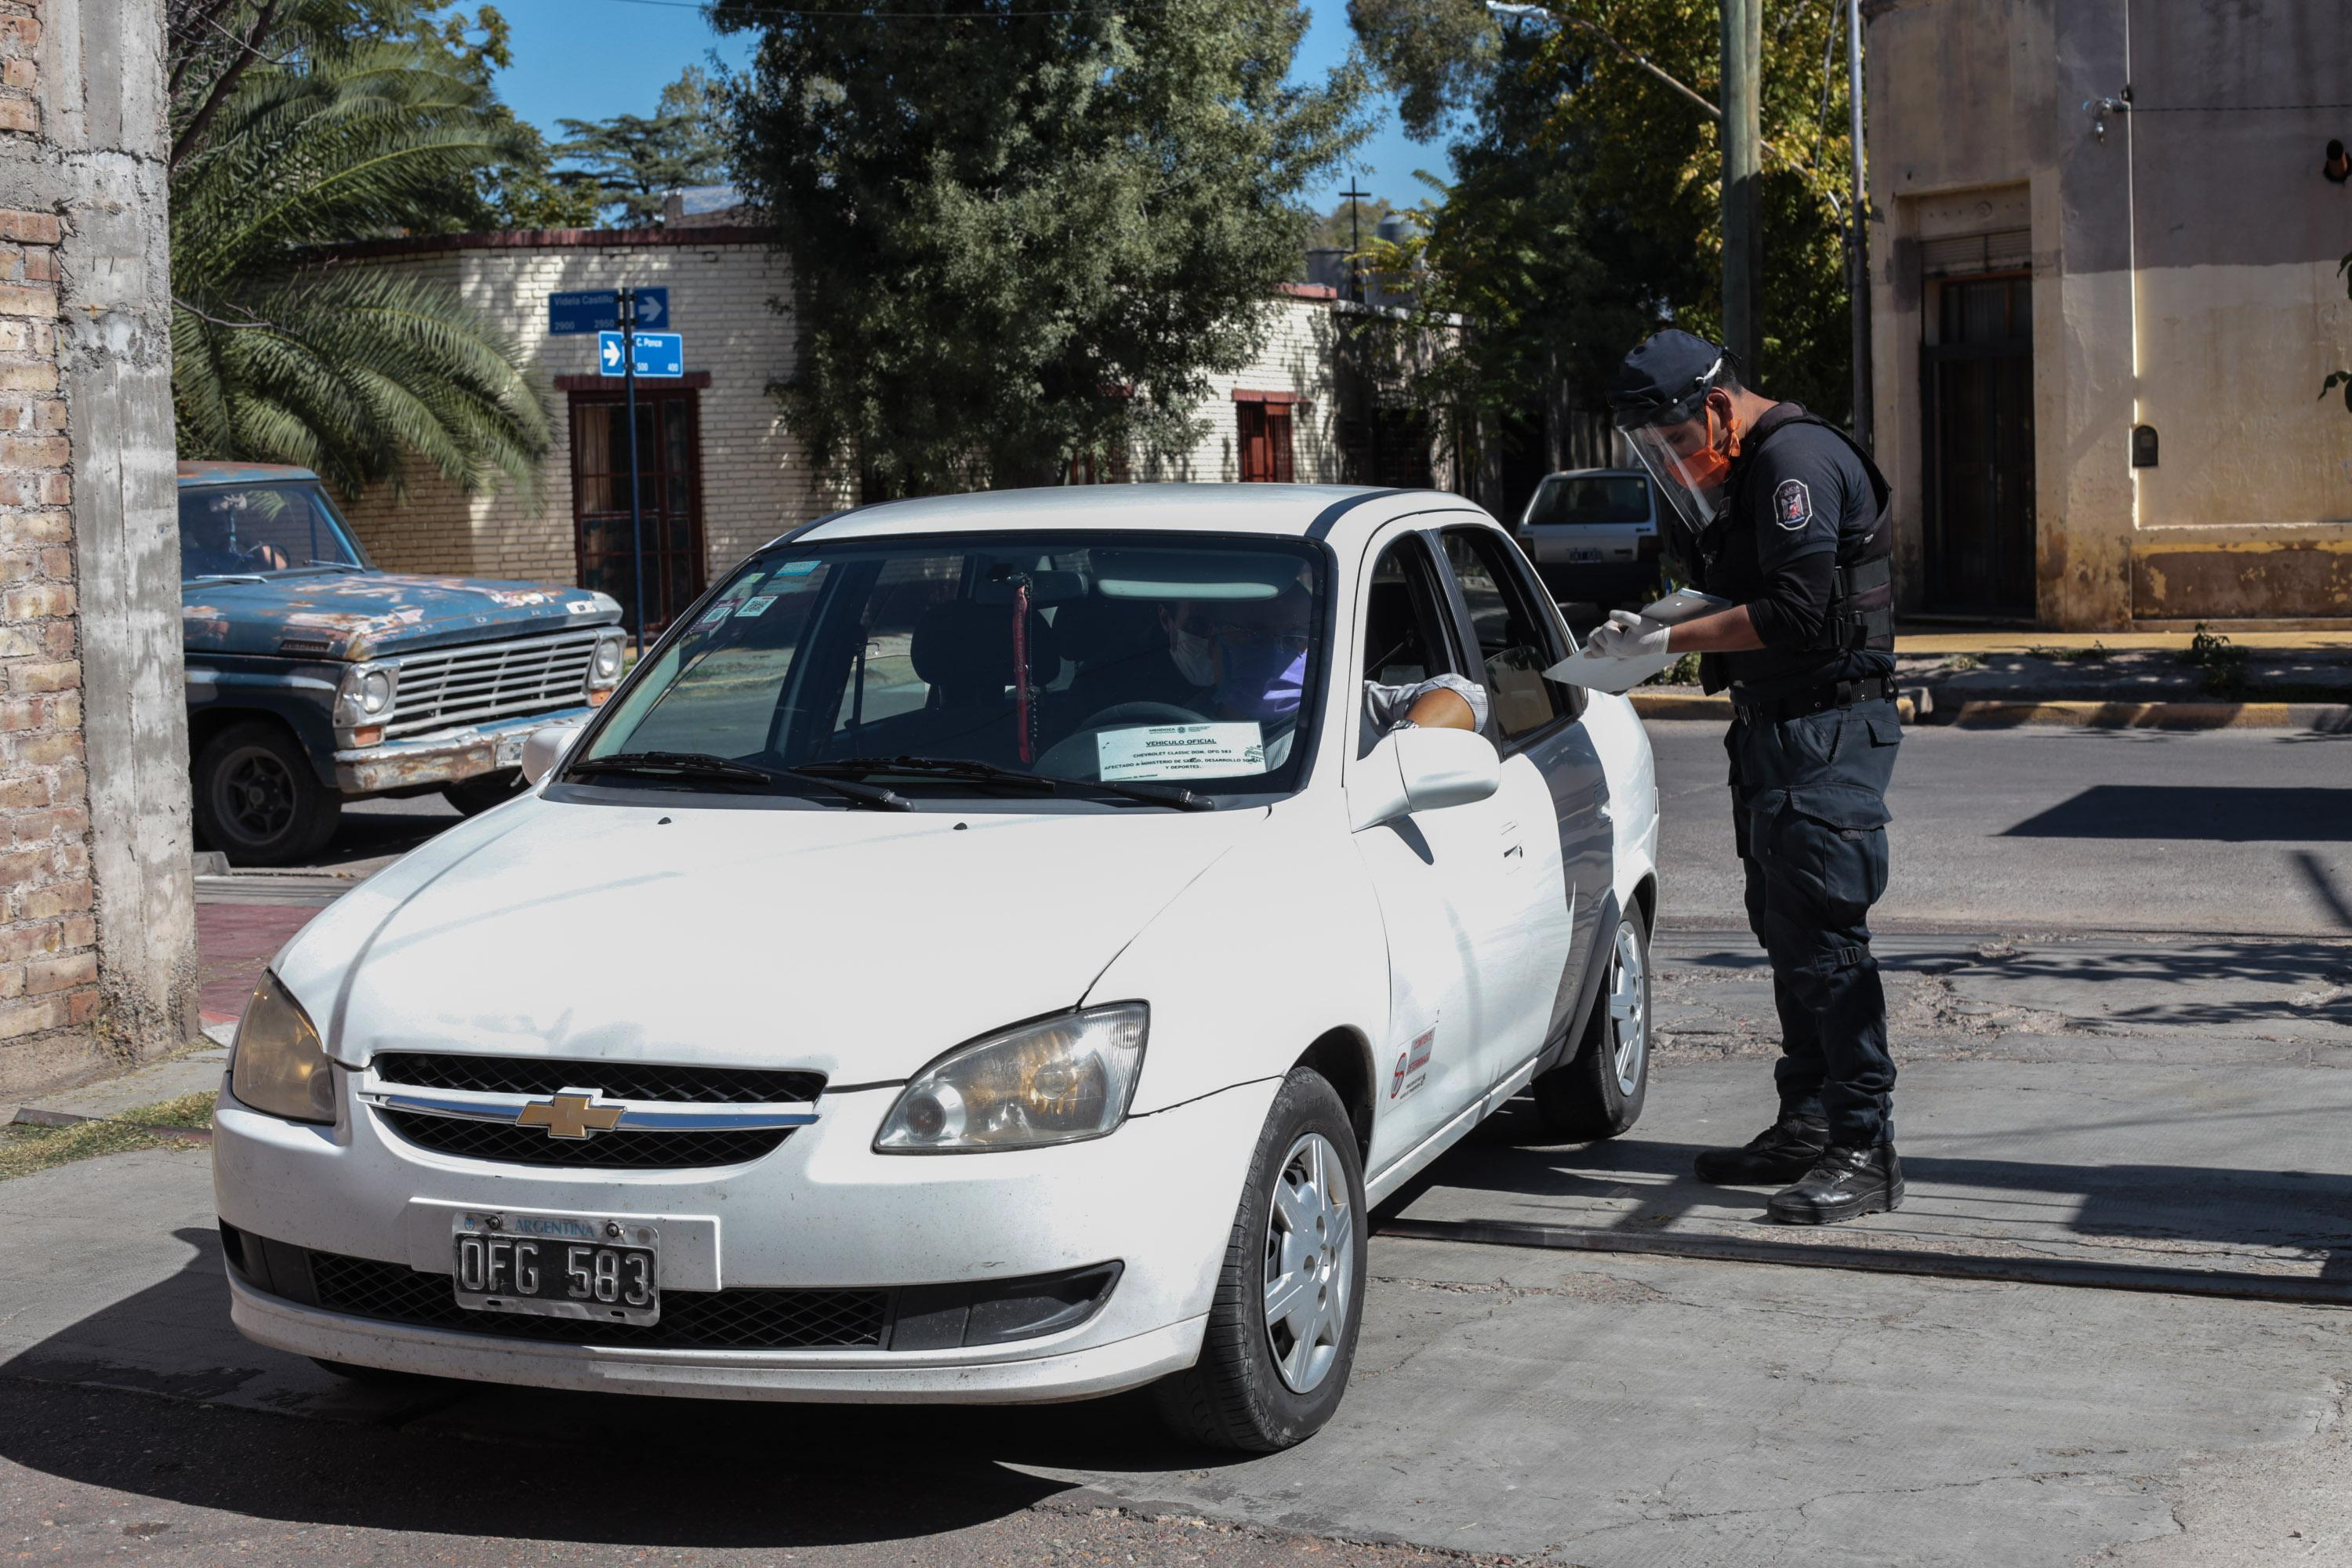matricula: (448, 1205, 665, 1331), (492, 735, 532, 768), (1567, 546, 1603, 565)
